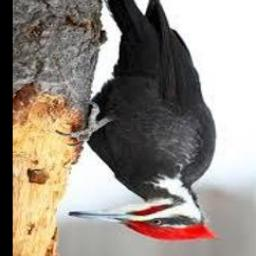Woodpecker: (56, 0, 215, 241)
